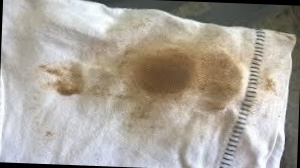earth: (130, 48, 239, 104), (53, 62, 84, 94)
